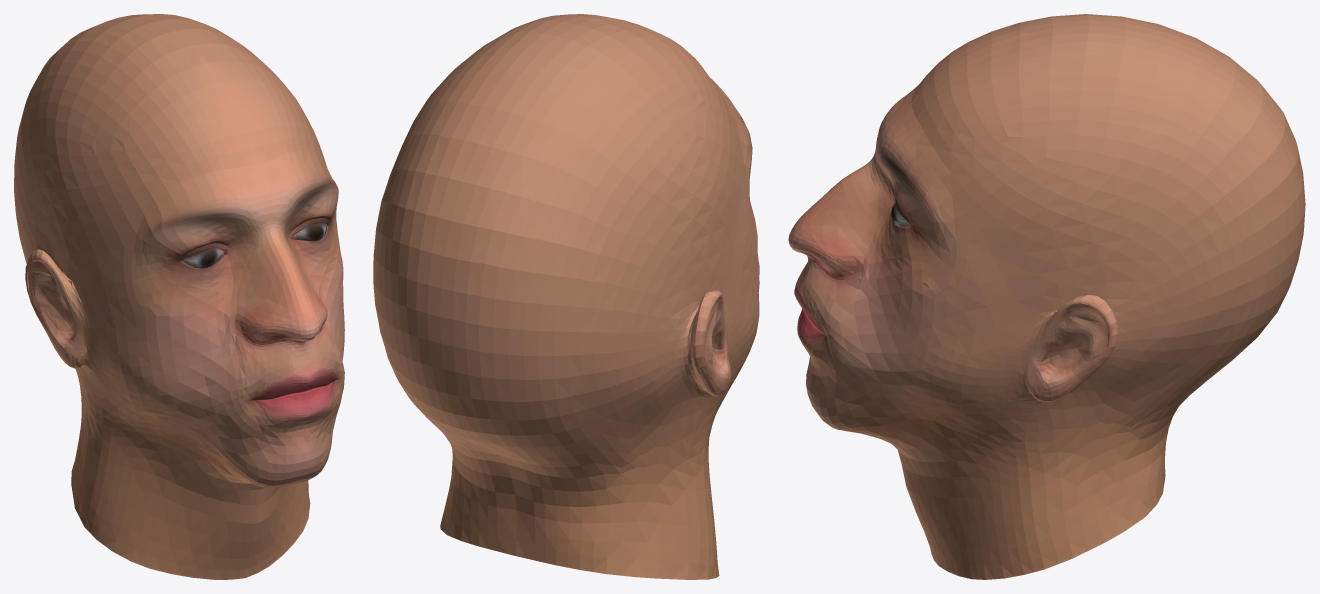
The model's file is face_randmale.obj.
3 renders of one model, left to right at view 1: azimuth 30°, elevation 25°; view 2: azimuth 150°, elevation 25°; view 3: azimuth 270°, elevation 25°, orthographic. The views are drawn at different scales.
Visible parts, largest first — view 1: skin_hi, eyeR_hi, eyeL_hi; view 2: skin_hi; view 3: skin_hi.
Part boxes in pixels (box(x1,y1,x2,y2)): skin_hi: box(14, 14, 344, 579); eyeR_hi: box(182, 248, 223, 268); eyeL_hi: box(292, 223, 326, 241); skin_hi: box(373, 14, 759, 579); skin_hi: box(788, 14, 1305, 579).
Bounding box in the file's own units: 162 × 279 × 248.
Materials: 7 (7 with a texture image).
